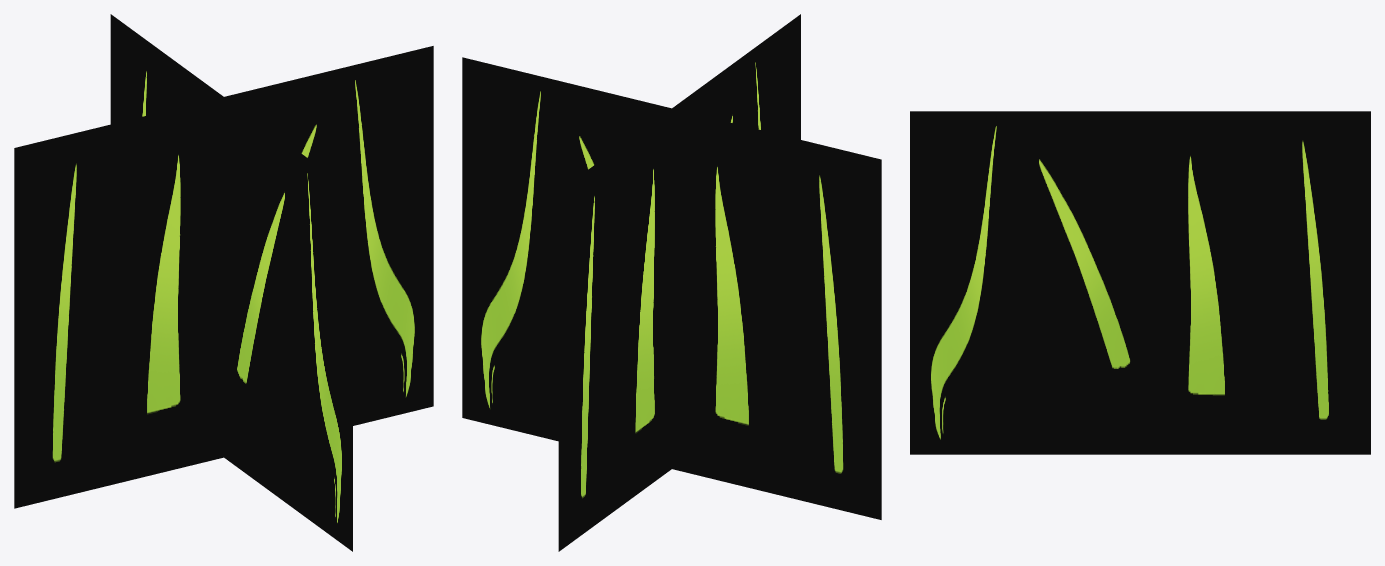
Rendered from HERBE 2.FBX.
3 renders of one model, left to right at view 1: azimuth 30°, elevation 25°; view 2: azimuth 150°, elevation 25°; view 3: azimuth 270°, elevation 25°, orthographic. The views are drawn at different scales.
Visible parts, largest first — view 1: Herbe final; view 2: Herbe final; view 3: Herbe final.
Part boxes in pixels (<box>): Herbe final: <box>14,14,433,551</box>; Herbe final: <box>462,14,881,551</box>; Herbe final: <box>910,111,1370,454</box>.
Bounding box in the file's own units: 196 × 161 × 196.
